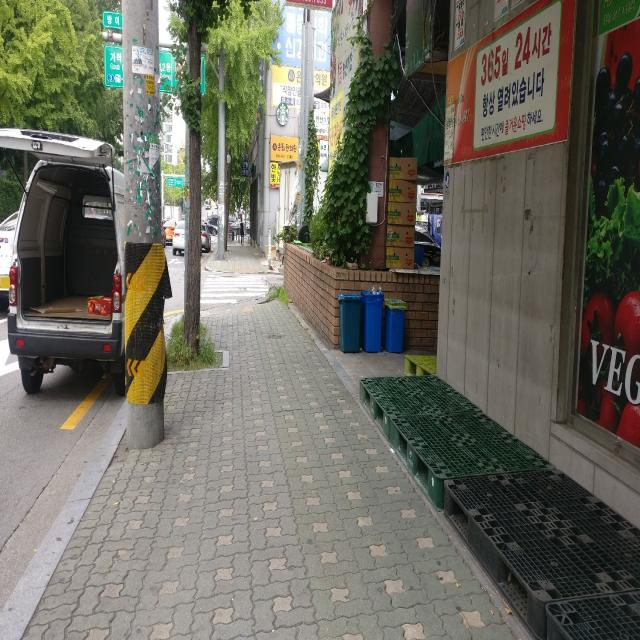횡단보도: (199, 272, 272, 305)
